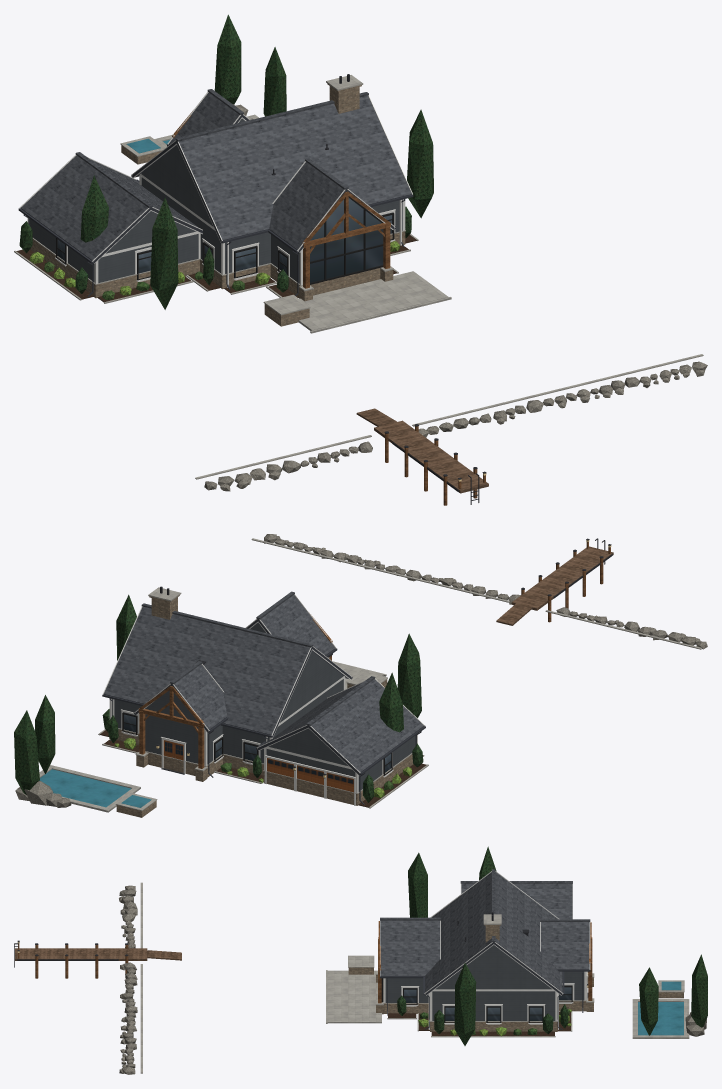
The model's file is lot-8107.fbx.
3 renders of one model, top to bottom at view 1: azimuth 30°, elevation 25°; view 2: azimuth 150°, elevation 25°; view 3: azimuth 270°, elevation 25°, orthographic. The views are drawn at different scales.
Parts seen in each view (by area): view 1: lot-8107_LOD0; view 2: lot-8107_LOD0; view 3: lot-8107_LOD0.
Boxes of the visible parts, x1=… form: lot-8107_LOD0: x1=14, y1=14, x2=707, y2=505; lot-8107_LOD0: x1=14, y1=534, x2=707, y2=817; lot-8107_LOD0: x1=14, y1=846, x2=707, y2=1074.
Size of what is drawn, in the model's own units: 39 by 12.08 by 60.18.
Materials: 2 (2 with a texture image).
